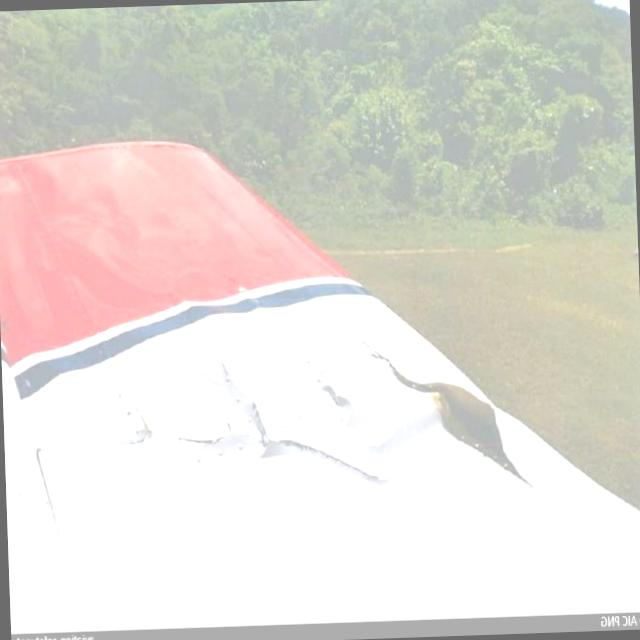crack: (275, 432, 385, 486), (244, 396, 266, 459), (190, 427, 234, 458), (214, 364, 233, 391)
